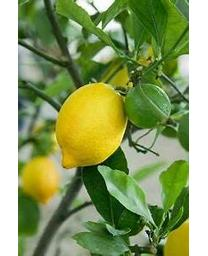lemon: (57, 84, 125, 169), (126, 86, 168, 129)
